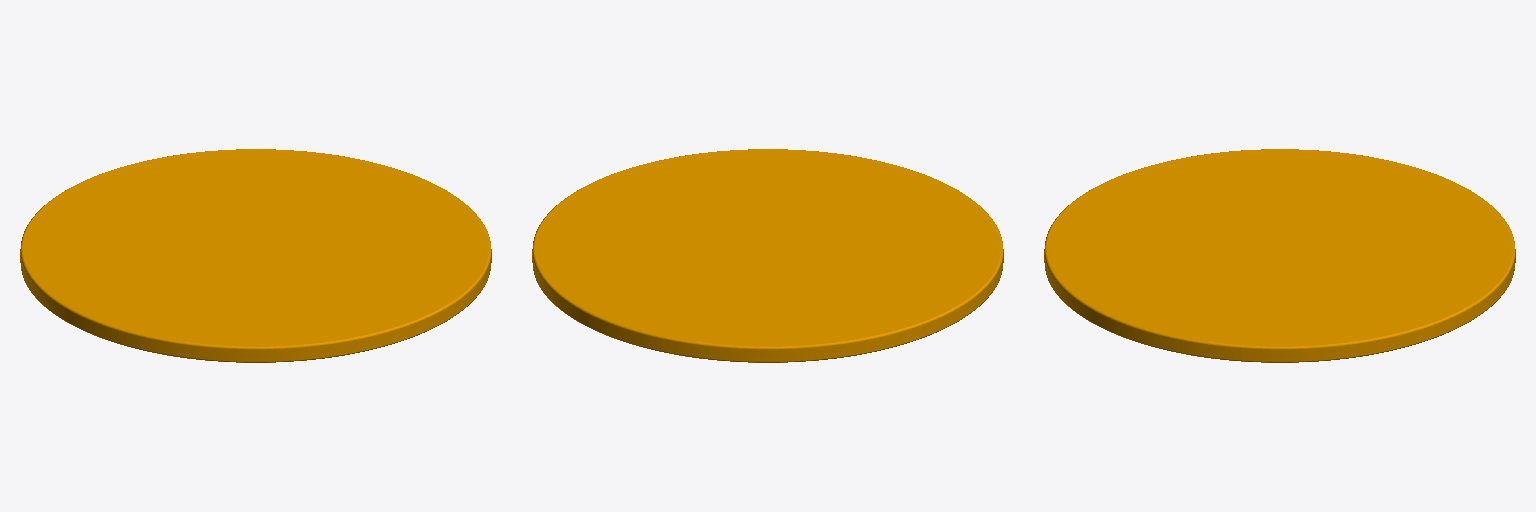
URDF robot description (balance_board):
<?xml version="1.0" ?>
<!-- =================================================================================== -->
<!-- |    This document was autogenerated by xacro from new_board.xacro                | -->
<!-- |    EDITING THIS FILE BY HAND IS NOT RECOMMENDED                                 | -->
<!-- =================================================================================== -->
<robot name="balance_board">
  <link name="board">
    <visual>
      <origin rpy="0.00 0.00 0.00" xyz="0.00 0.00 0.00"/>
      <geometry>
        <mesh filename="urdf/newBalanceBoard/board/board.obj"/>
      </geometry>
    </visual>
    <collision>
      <origin rpy="0.00 0.00 0.00" xyz="0.00 0.00 0.0075"/>
      <geometry>
        <!-- <mesh filename="urdf/newBalanceBoard/board/board.obj"/> -->
        <cylinder radius="0.1975" length="0.015"/>
      </geometry>
    </collision>
    <inertial>
      <origin rpy="0.00 0.00 0.00" xyz="0.00 0.00 0.0075"/>
      <mass value="0.862920"/>
      <inertia ixx="0.008421" ixy="0.000000" ixz="-0.000000" iyy="0.008421" iyz="-0.000000" izz="0.016810"/>
    </inertial>
  </link>
  <joint name="board_rolloer_joint" type="fixed">
    <parent link="board"/>
    <child link="roller"/>
    <origin rpy="0 0 0" xyz="0.00 0.00 0.0"/>
    <axis xyz="0 0 1"/>
    <limit effort="10.6" lower="-0.52" upper="1.5707963267948966" velocity="3.14"/>
    <!-- <limit velocity="3.14" effort="100" lower="-3" upper="3" /> -->
    <dynamics damping="0.1" friction="0.0"/>
    <implicitSpringDamper>True</implicitSpringDamper>
  </joint>
  <transmission name="board_rolloer_joint_tran">
    <type>transmission_interface/SimpleTransmission</type>
    <joint name="board_rolloer_joint">
      <hardwareInterface>hardware_interface/EffortJointInterface</hardwareInterface>
    </joint>
    <actuator name="board_rolloer_joint_motor">
      <hardwareInterface>hardware_interface/EffortJointInterface</hardwareInterface>
      <mechanicalReduction>1</mechanicalReduction>
    </actuator>
  </transmission>
  <link name="roller">
    <visual>
      <origin rpy="0.00 0.00 0.00" xyz="0.00 0.0 0.0"/>
      <geometry>
        <mesh filename="urdf/newBalanceBoard/board/newBalanceBoard_Roller.obj"/>
      </geometry>
    </visual>
    <collision>
      <origin rpy="0.00 0.00 0.00" xyz="0.00 0.0 -0.015000"/>
      <geometry>
        <sphere radius="0.030"/>
        <!-- <mesh filename="urdf/newBalanceBoard/board/newBalanceBoard_Roller.obj"/> -->
      </geometry>
      <!-- <sdf resolution="256"/> -->
    </collision>
    <inertial>
      <origin rpy="0.00 0.00 0.00" xyz="0.00 0.00 -0.025976"/>
      <mass value="0.592680"/>
      <inertia ixx="0.000718" ixy="0.000000" ixz="0.000000" iyy="0.000718" iyz="0.000000" izz="0.001097"/>
    </inertial>
  </link>
</robot>

--- What the picture shows (computed from the rendered views, not written in the file) ---
3 views of the same robot in one strip: view 1: azimuth 30°, elevation 25°; view 2: azimuth 150°, elevation 25°; view 3: azimuth 270°, elevation 25° (orthographic).
Robot: balance_board — 2 links, 1 joints (1 fixed); root link board; default pose: all joints at 0.
Links seen in each view (by area): view 1: board; view 2: board; view 3: board.
Link boxes in pixels (x1=…): board: x1=20, y1=149, x2=491, y2=362; board: x1=532, y1=149, x2=1003, y2=362; board: x1=1044, y1=149, x2=1515, y2=362.
Bounding box of the posed robot: 0.395 × 0.395 × 0.015 m (x, y, z).
1 mesh visuals loaded from 2 distinct referenced files (1 OBJ); not drawn: 1 (reference not matched to a file when rendering).
